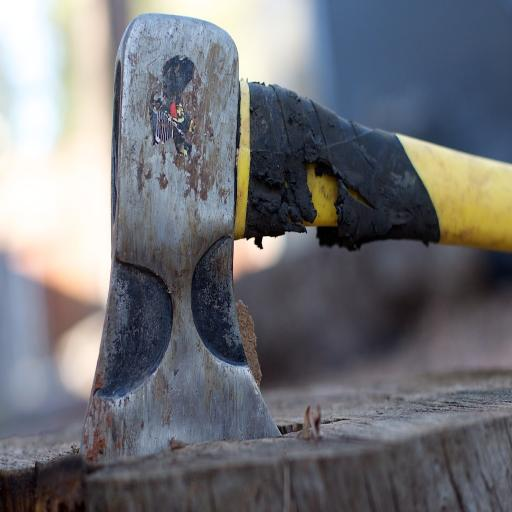Axe: (76, 14, 512, 463)
